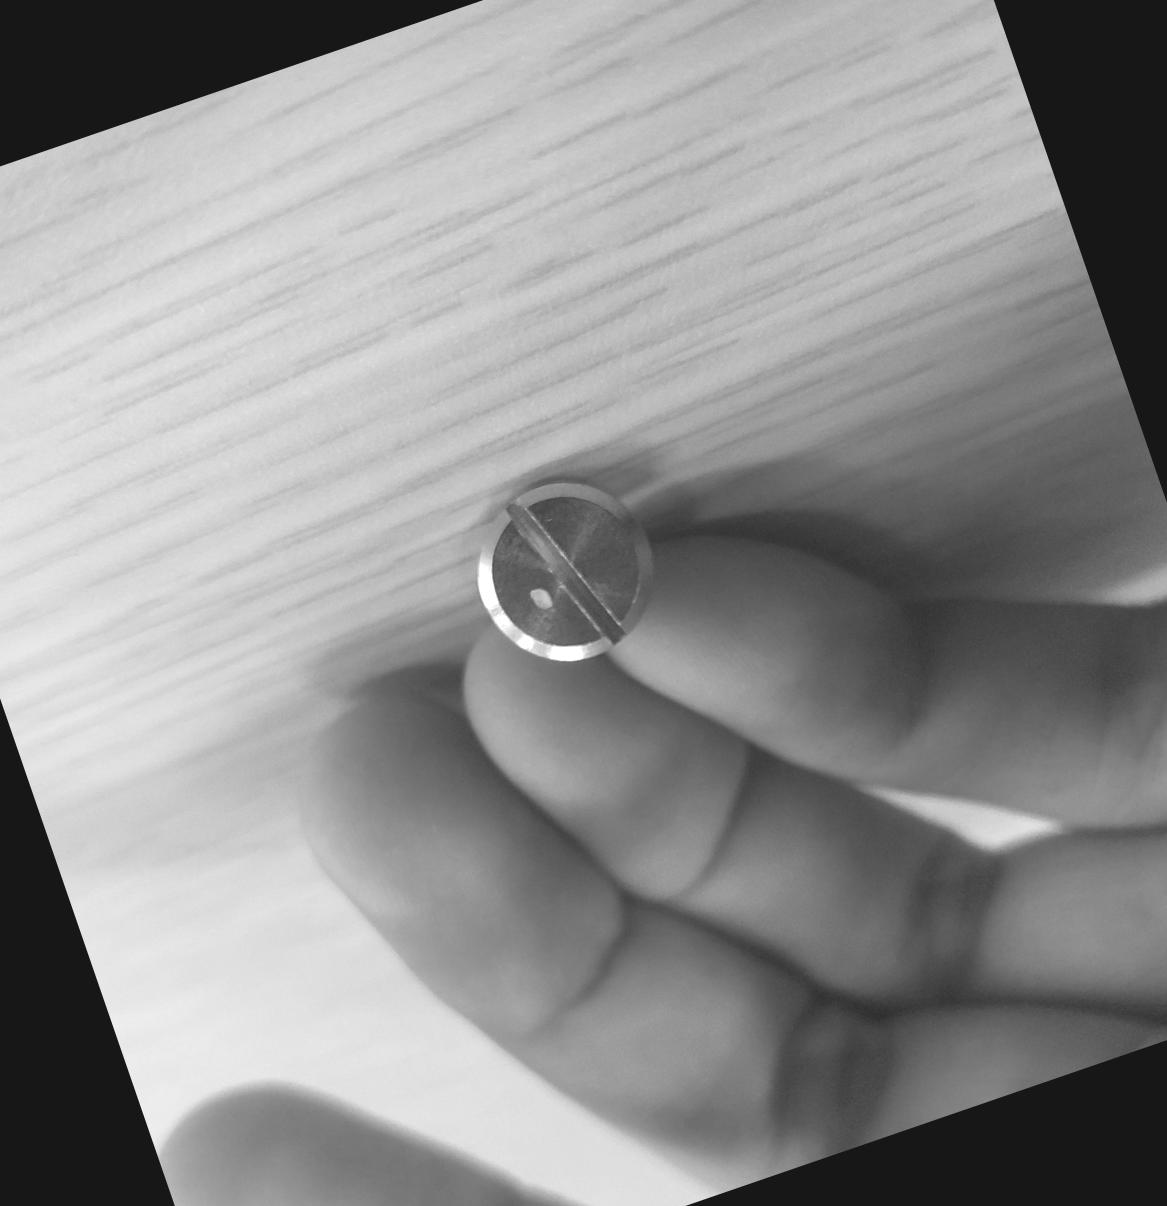screw: (452, 458, 679, 687)
